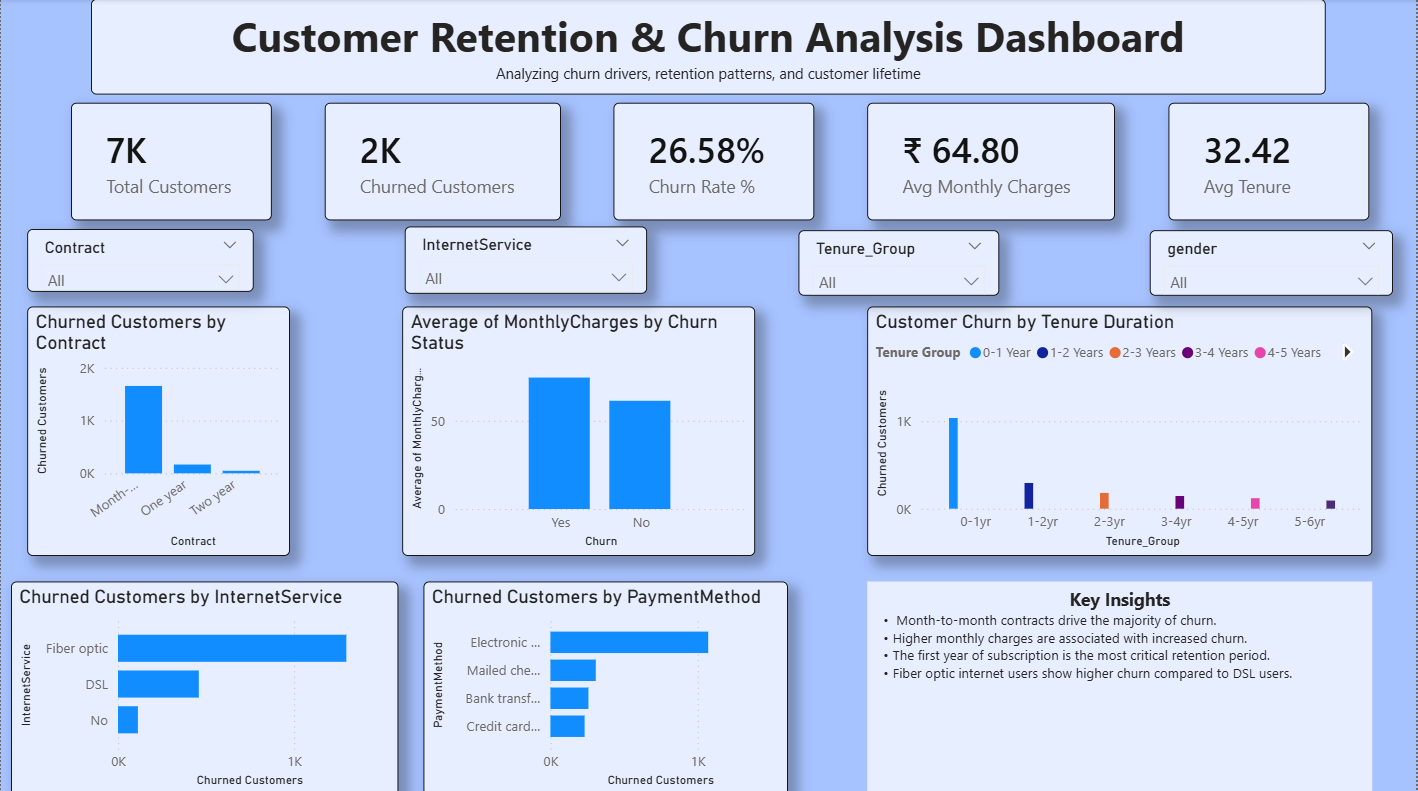

The dashboard page shown, as its layout file describes it:
{"tool":"powerbi","page":{"name":"Page 1","canvas":[1280,720],"ordinal":0},"visuals":[{"type":"cardVisual","fields":{"Data":["cleaned_telco_churn.Total Customers"]},"box":[63.1,94,181.4,106.1],"z":0},{"type":"cardVisual","fields":{"Data":["cleaned_telco_churn.Churned Customers"]},"box":[292.5,94,213.6,106.1],"z":1000},{"type":"cardVisual","fields":{"Data":["cleaned_telco_churn.Churn Rate %"]},"box":[554.2,94,181.4,106.1],"z":2000},{"type":"cardVisual","fields":{"Data":["cleaned_telco_churn.Avg Monthly Charges"]},"box":[783.5,94,224.4,106.1],"z":3000},{"type":"cardVisual","fields":{"Data":["cleaned_telco_churn.Avg Tenure"]},"box":[1055.9,94,181.4,106.1],"z":4000},{"type":"clusteredColumnChart","fields":{"Category":["cleaned_telco_churn.Contract"],"Y":["cleaned_telco_churn.Churned Customers"]},"box":[23.3,278.2,237.8,225.7],"z":5000},{"type":"clusteredBarChart","title":"Customer Churn by Internet Service","fields":{"Category":["cleaned_telco_churn.InternetService"],"Y":["cleaned_telco_churn.Churned Customers"]},"box":[9.4,526.6,350.6,193.5],"z":6000},{"type":"clusteredBarChart","fields":{"Category":["cleaned_telco_churn.PaymentMethod"],"Y":["cleaned_telco_churn.Churned Customers"]},"box":[382.1,526.5,329.7,193.4],"z":7000},{"type":"clusteredColumnChart","title":"Customer Churn by Tenure Duration","fields":{"Category":["cleaned_telco_churn.Tenure_Group"],"Series":["cleaned_telco_churn.Tenure Group"],"Y":["cleaned_telco_churn.Churned Customers"]},"box":[783.2,278.1,456.8,225.7],"z":8000},{"type":"clusteredColumnChart","title":"Average of MonthlyCharges by Churn Status","fields":{"Category":["cleaned_telco_churn.Churn"],"Y":["Avg(cleaned_telco_churn.MonthlyCharges)"]},"box":[362.7,278.4,319.2,226],"z":9000},{"type":"textbox","box":[81.5,0,1117.1,86.2],"z":10000},{"type":"slicer","fields":{"Values":["cleaned_telco_churn.Contract"]},"box":[23.3,208.4,205,57.1],"z":11000},{"type":"slicer","fields":{"Values":["cleaned_telco_churn.InternetService"]},"box":[365.1,205.5,219,60.5],"z":12000},{"type":"slicer","fields":{"Values":["cleaned_telco_churn.Tenure_Group"]},"box":[720.9,209.6,181.4,59.1],"z":13000},{"type":"slicer","fields":{"Values":["cleaned_telco_churn.gender"]},"box":[1039.1,209.6,220.2,59.4],"z":14000},{"type":"textbox","box":[783.2,526.6,456.8,193.5],"z":14001}]}

Visuals, with their boxes in screenshot pixels (x1, y1, x2, y2), scaled from the page's 1280x720 canvas onto the 1418x791 screenshot:
cardVisual - cleaned_telco_churn.Total Customers: 70,103,271,220
cardVisual - cleaned_telco_churn.Churned Customers: 324,103,561,220
cardVisual - cleaned_telco_churn.Churn Rate %: 614,103,815,220
cardVisual - cleaned_telco_churn.Avg Monthly Charges: 868,103,1117,220
cardVisual - cleaned_telco_churn.Avg Tenure: 1170,103,1371,220
clusteredColumnChart - cleaned_telco_churn.Contract x cleaned_telco_churn.Churned Customers: 26,306,289,554
"Customer Churn by Internet Service" clusteredBarChart: 10,579,399,790
clusteredBarChart - cleaned_telco_churn.PaymentMethod x cleaned_telco_churn.Churned Customers: 423,578,789,790
"Customer Churn by Tenure Duration" clusteredColumnChart: 868,306,1374,553
"Average of MonthlyCharges by Churn Status" clusteredColumnChart: 402,306,755,554
textbox: 90,0,1328,95
slicer - cleaned_telco_churn.Contract: 26,229,253,292
slicer - cleaned_telco_churn.InternetService: 404,226,647,292
slicer - cleaned_telco_churn.Tenure_Group: 799,230,1000,295
slicer - cleaned_telco_churn.gender: 1151,230,1395,296
textbox: 868,579,1374,790
